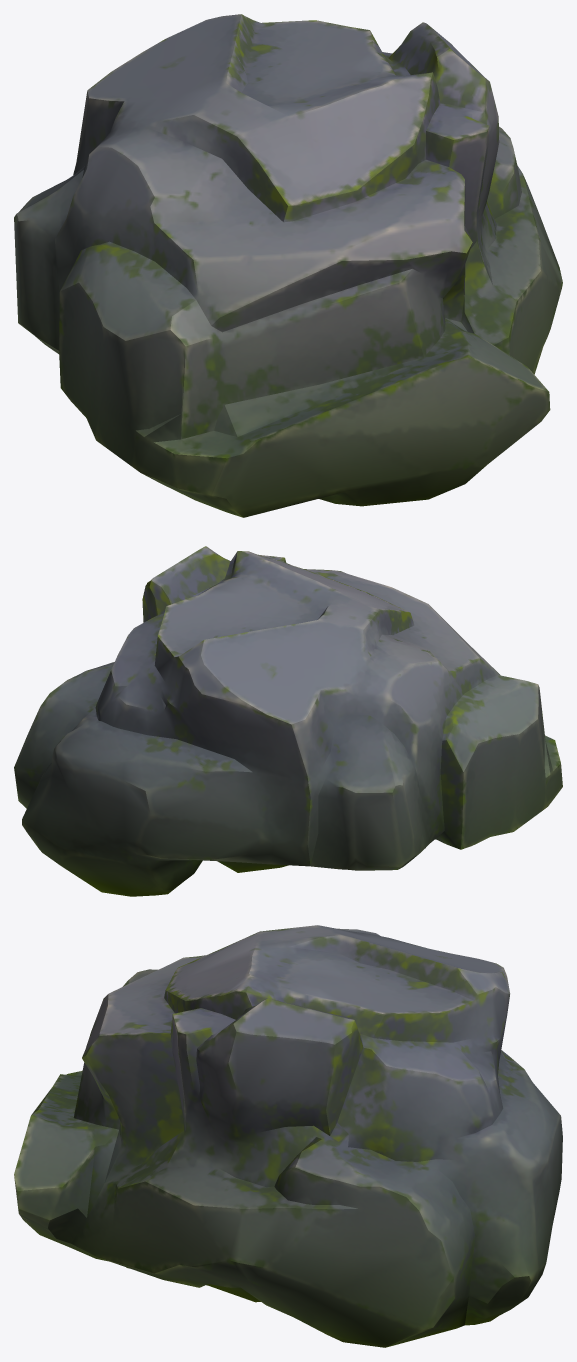
File: Rock_Big_2.gltf
3 views of the same model, one above another, from view 1: azimuth 30°, elevation 25°; view 2: azimuth 150°, elevation 25°; view 3: azimuth 270°, elevation 25° (orthographic). The views are drawn at different scales.
Parts seen in each view (by area): view 1: Rock_Big_2; view 2: Rock_Big_2; view 3: Rock_Big_2.
Part boxes in pixels (x1,y1,x2,y2): Rock_Big_2: (14,14,562,517); Rock_Big_2: (14,546,562,896); Rock_Big_2: (14,925,562,1347).
Size of the model in its own units: 5.77 by 3.81 by 5.82.
Materials: 1 (1 with a texture image).
